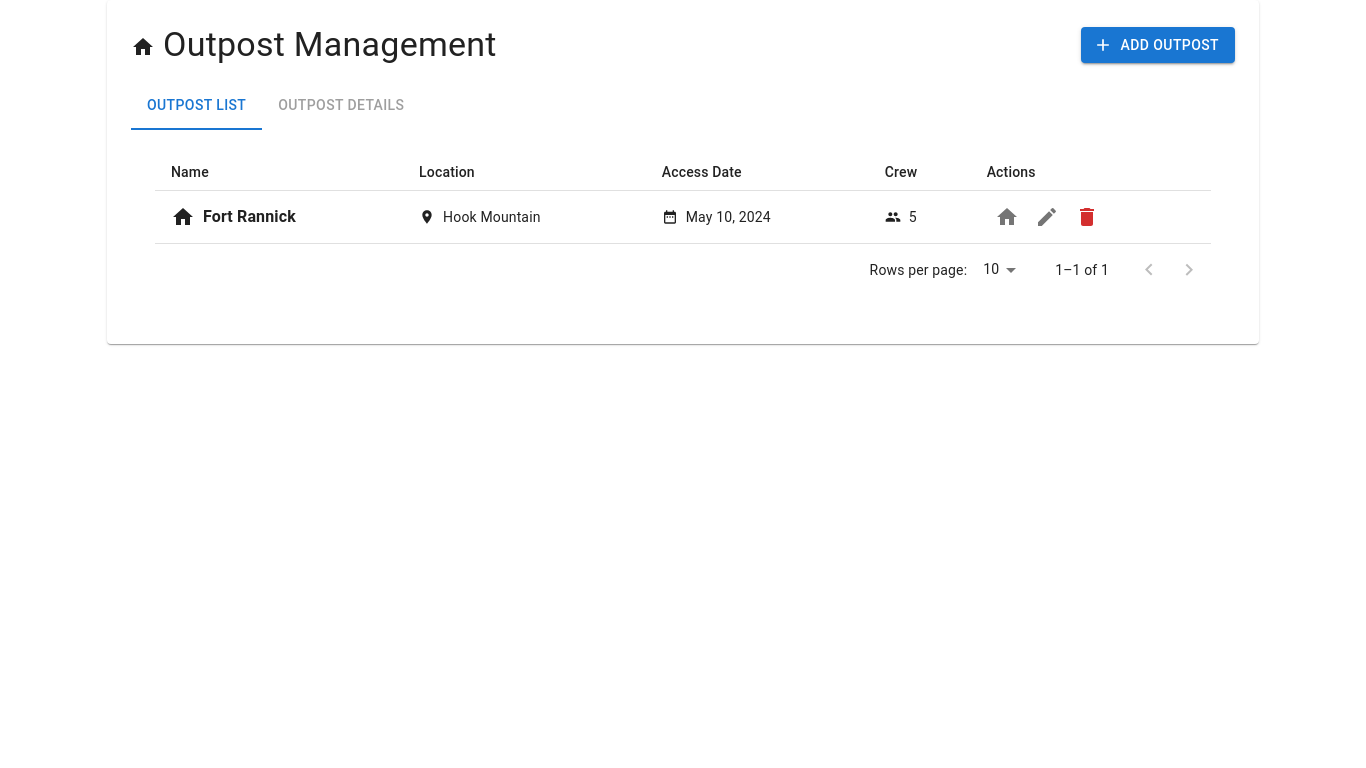
Test: OutpostManagement › keeps the outpost and reports the server message when delete fails
Expected: the text "Fort Rannick" is shown, [203,205,296,229]
Click the button titled "Delete" at coordinates (1087, 217), box [1067,197,1107,237]
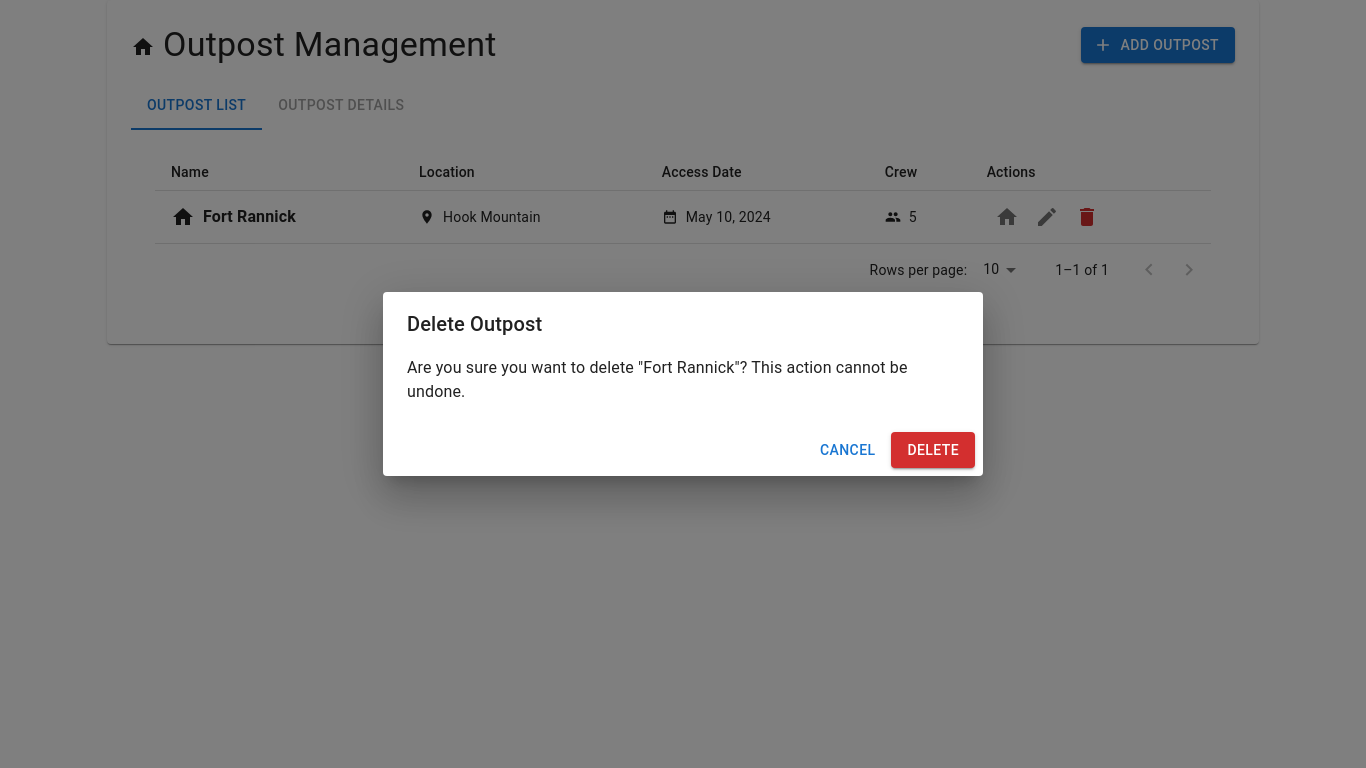
Click the button "Delete" at coordinates (933, 450), box [892,432,975,468]
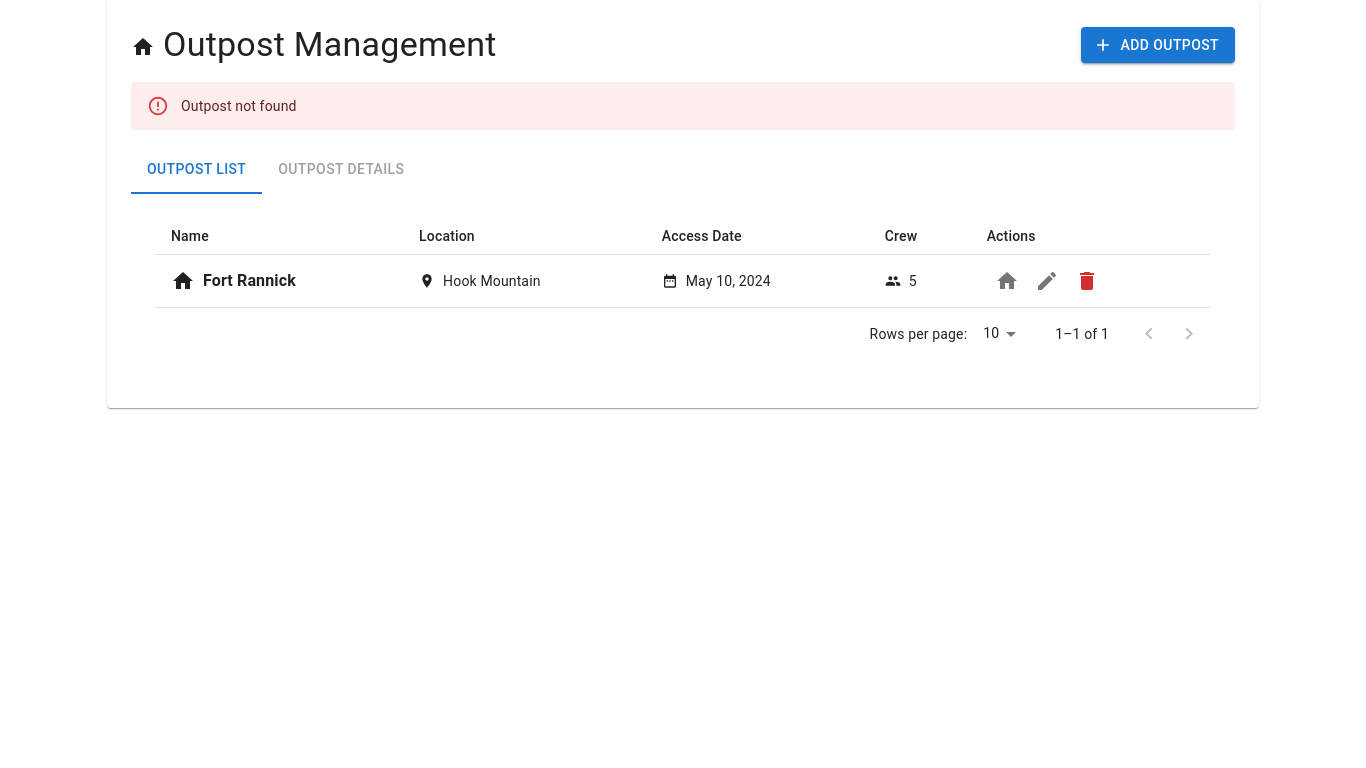
Expected: the text "Fort Rannick" is shown, [203,269,296,293]
Now the text "Outpost not found" is shown, box [181,98,297,114]
